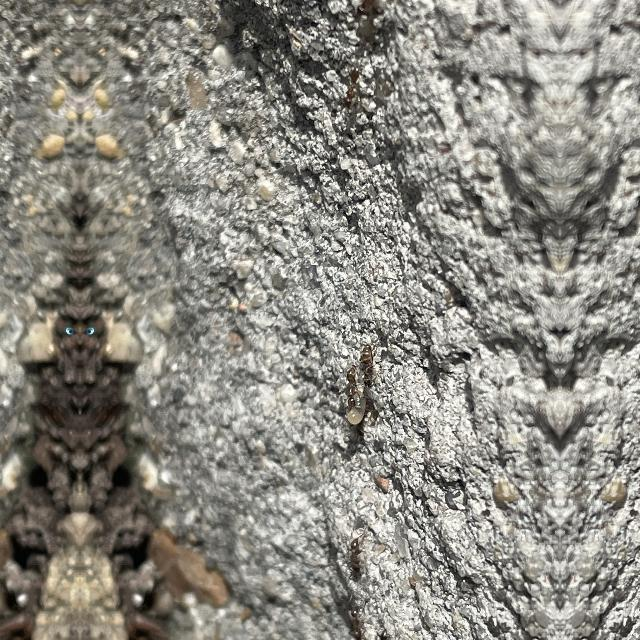Tapinoma: (343, 531, 367, 585), (356, 338, 379, 392), (340, 360, 362, 414), (339, 61, 363, 109), (343, 596, 369, 640), (353, 0, 389, 16)
